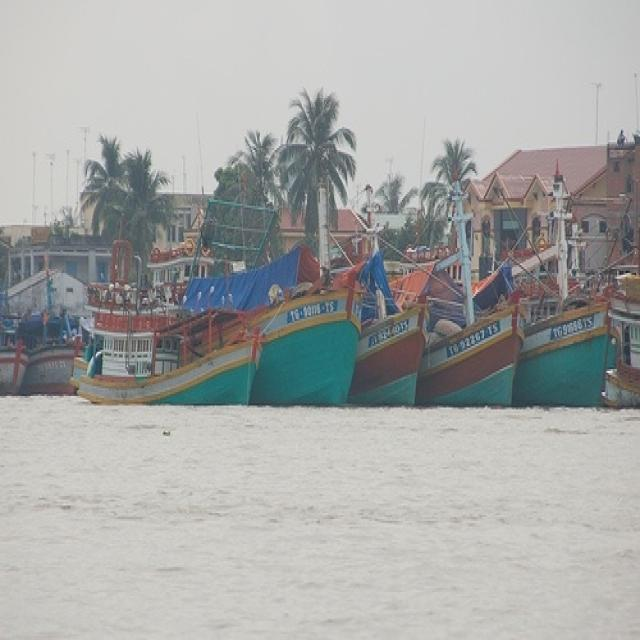boat: (71, 328, 265, 405)
